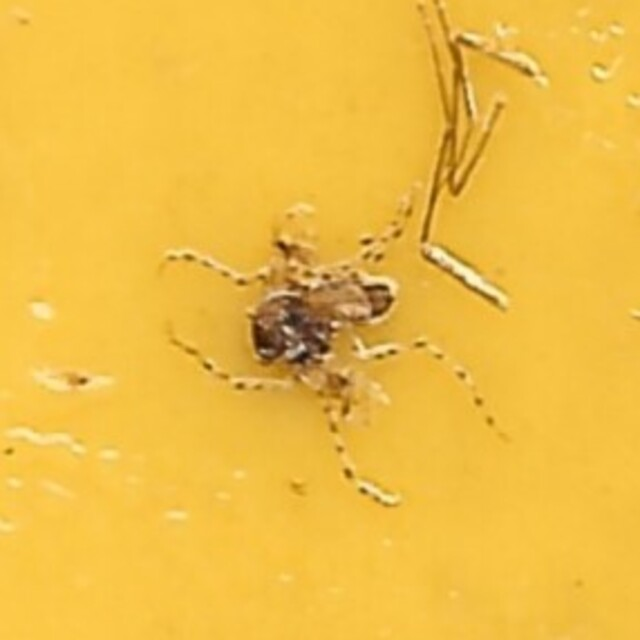Nematocera: (224, 238, 416, 402)
